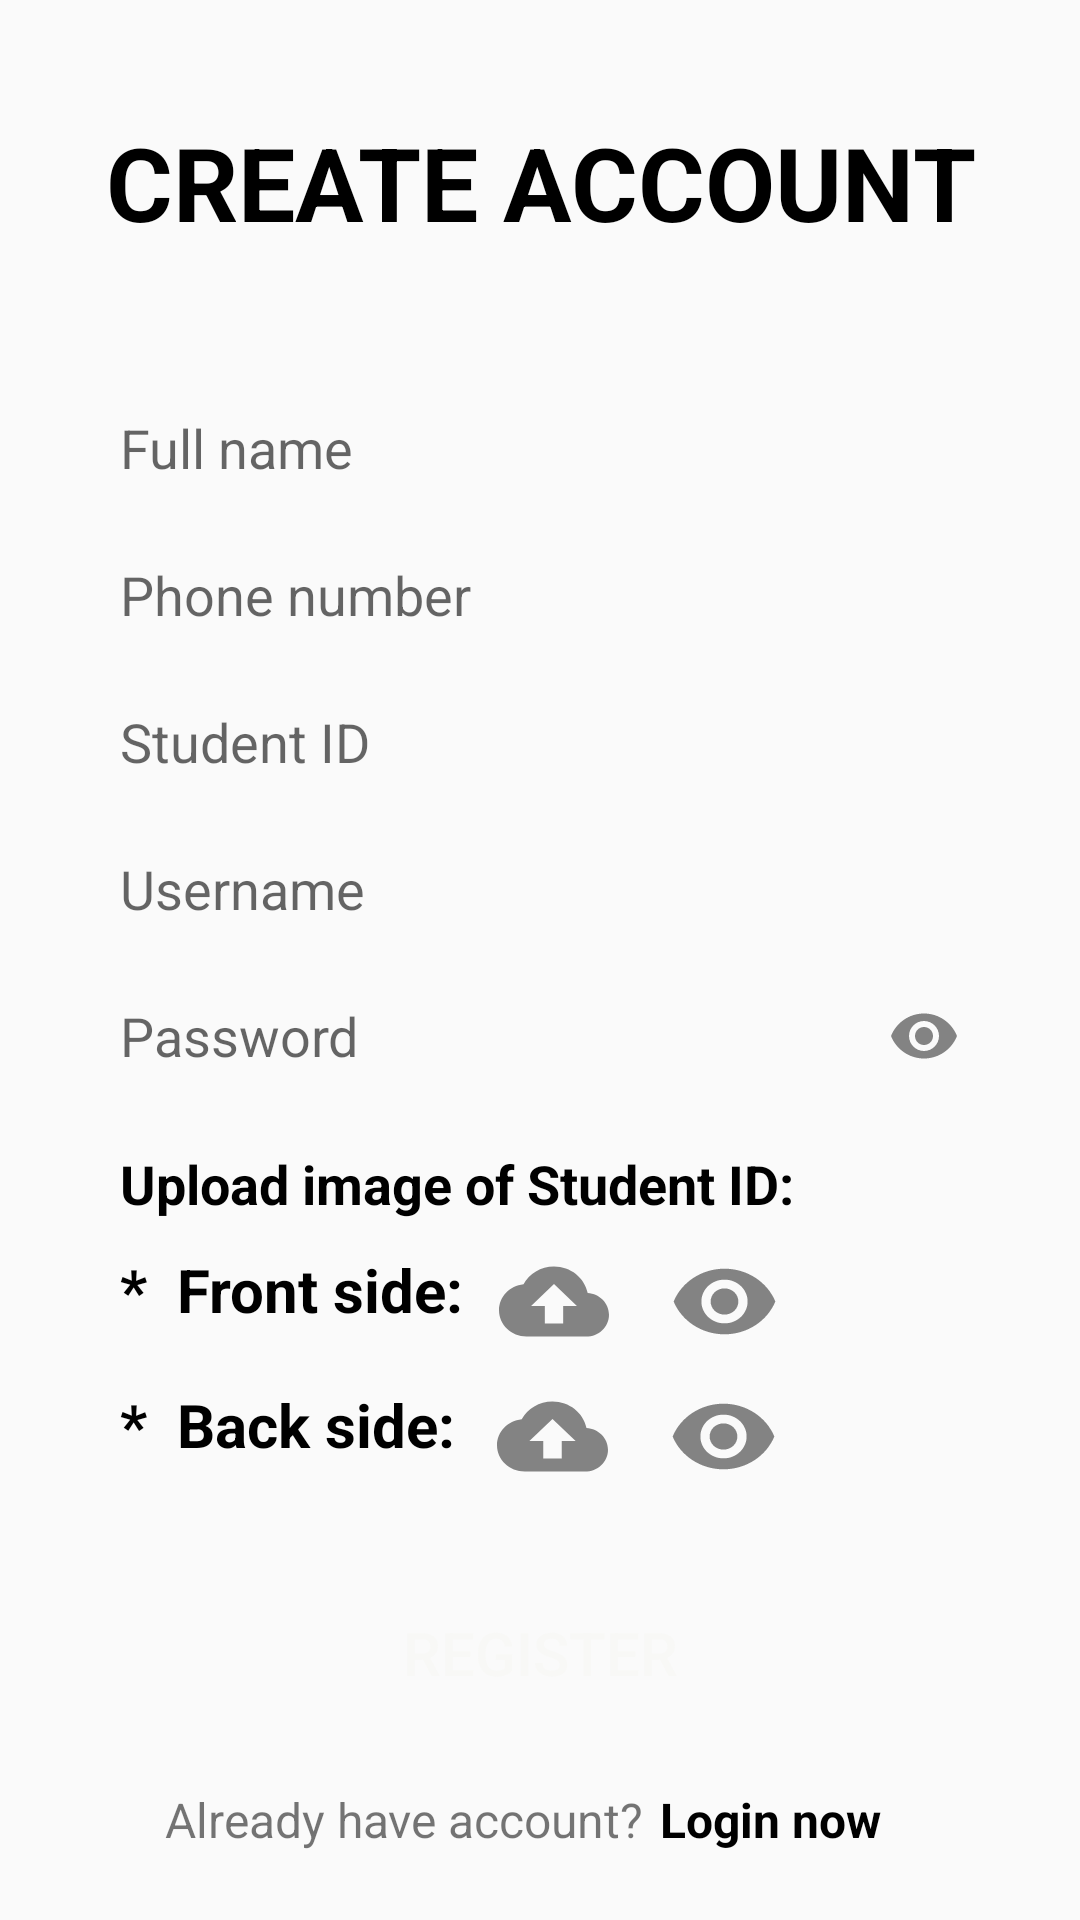

Screen size 1080px×1920px. Icon name, then its box in pixels as (x1, y1, x2, y2):
eye: (673, 1268, 776, 1335), (672, 1403, 775, 1470)
